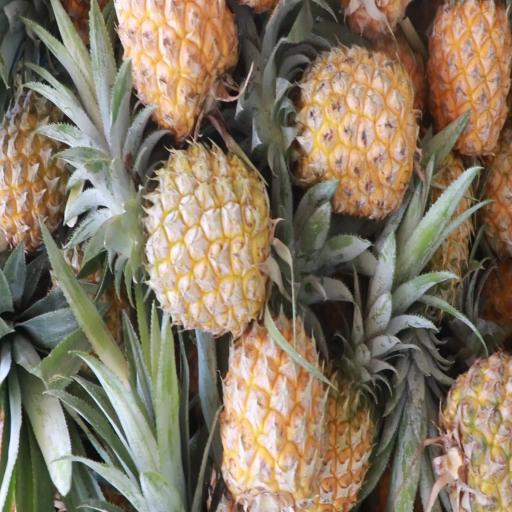Pineapple - v8 v1: (120, 136, 258, 339), (266, 42, 412, 214), (210, 295, 320, 512), (297, 272, 373, 512), (412, 1, 498, 149)
